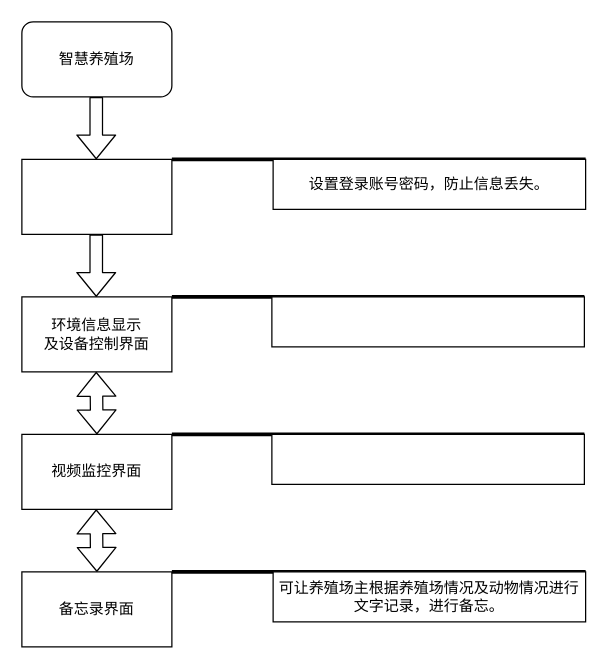
Some shapes in this 610 by 669 pixel diagram are drawn without their labels. Here are the shapes that lost their labels. From the top down, the box of each, then its label:
(21, 158, 172, 234): 密码登录界面
(271, 296, 584, 347): 可通过手机实时观察养殖场环境信息，并可通过手机远程控制养殖场内设备。可设置为智能看管模式，自动根据环境控制设备。
(271, 433, 584, 484): 通过连接高清网络摄像头实时可对养殖场进行监控，同时可设置物体移动报警检测。
